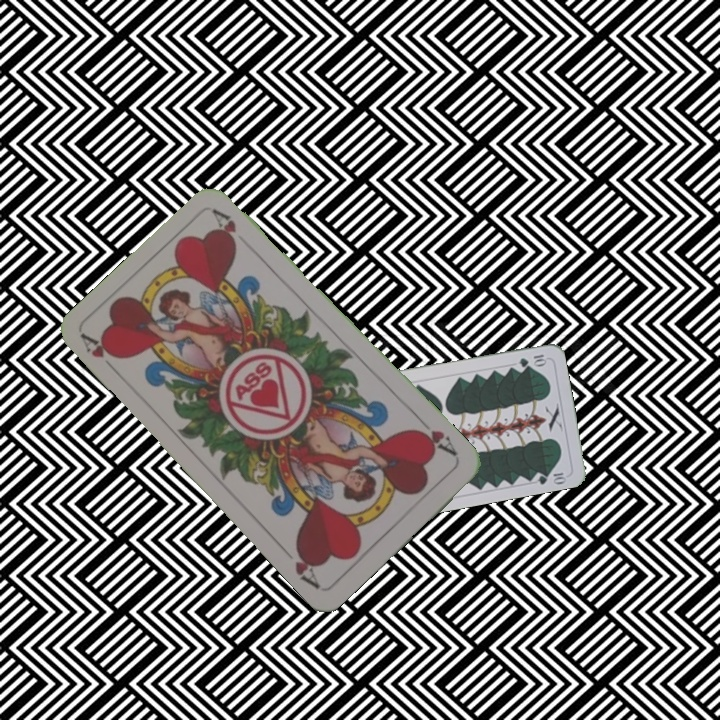G10: (515, 350, 549, 370)
HA: (409, 414, 460, 460), (78, 330, 124, 379)
